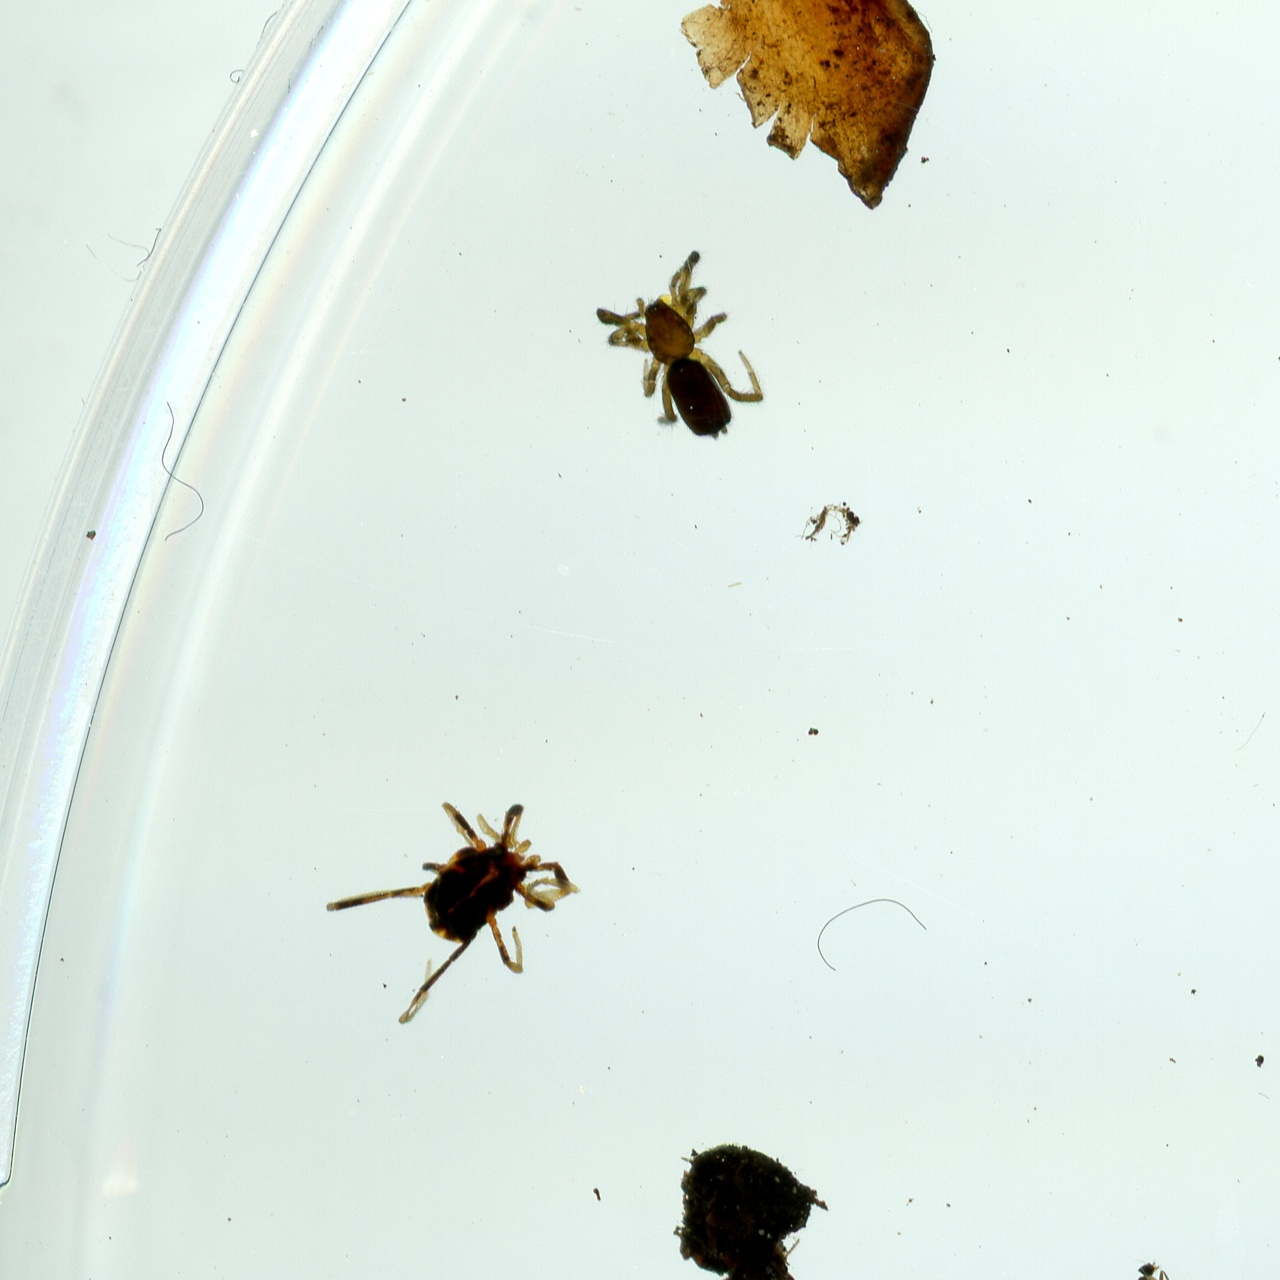arthropod: (299, 752, 617, 1063), (589, 229, 781, 451), (1082, 1252, 1208, 1280)
